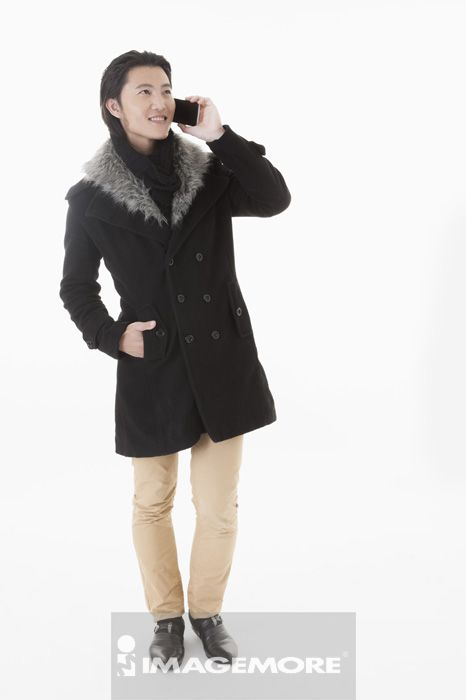phone: (170, 97, 199, 129)
talk: (128, 76, 224, 145)
